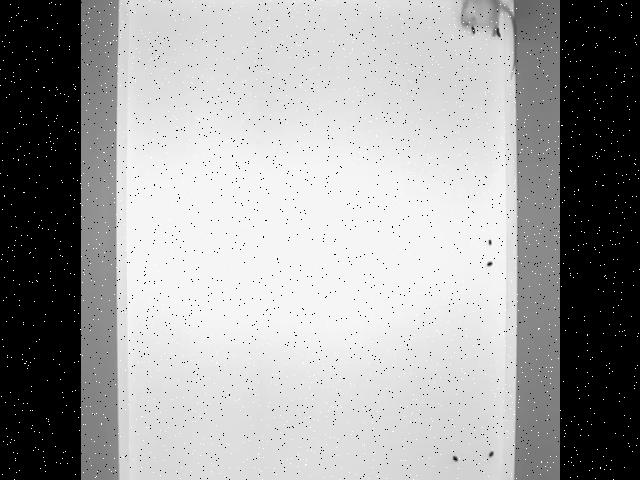Tikus: (459, 0, 515, 82)
